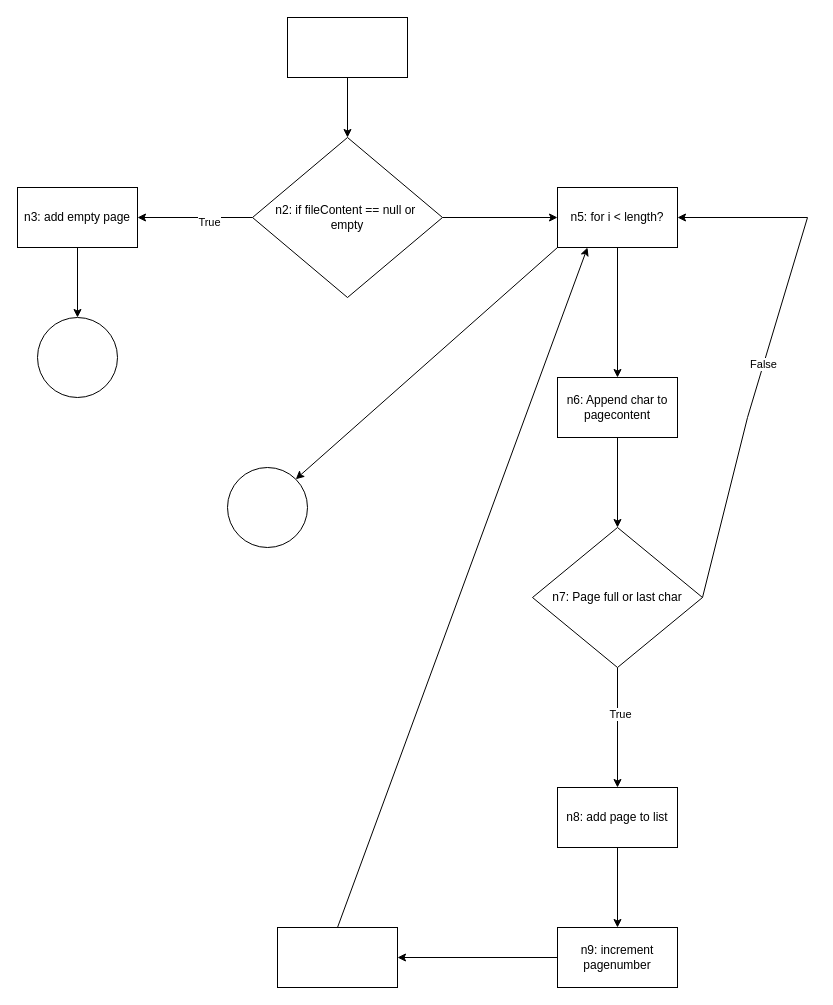
The diagram is 833 pixels wide and 1005 high, and some of its shapes have lost their labels. The shapes that lost their labels are listed below. From the top down, each one's box as (x1, y1, x2, y2) in pixels, then its label:
(286, 16, 408, 78): n1: Initialization
(36, 316, 118, 398): n4: return pages
(226, 466, 308, 548): n11: return pages
(276, 926, 398, 988): n10: reset pagecontent
